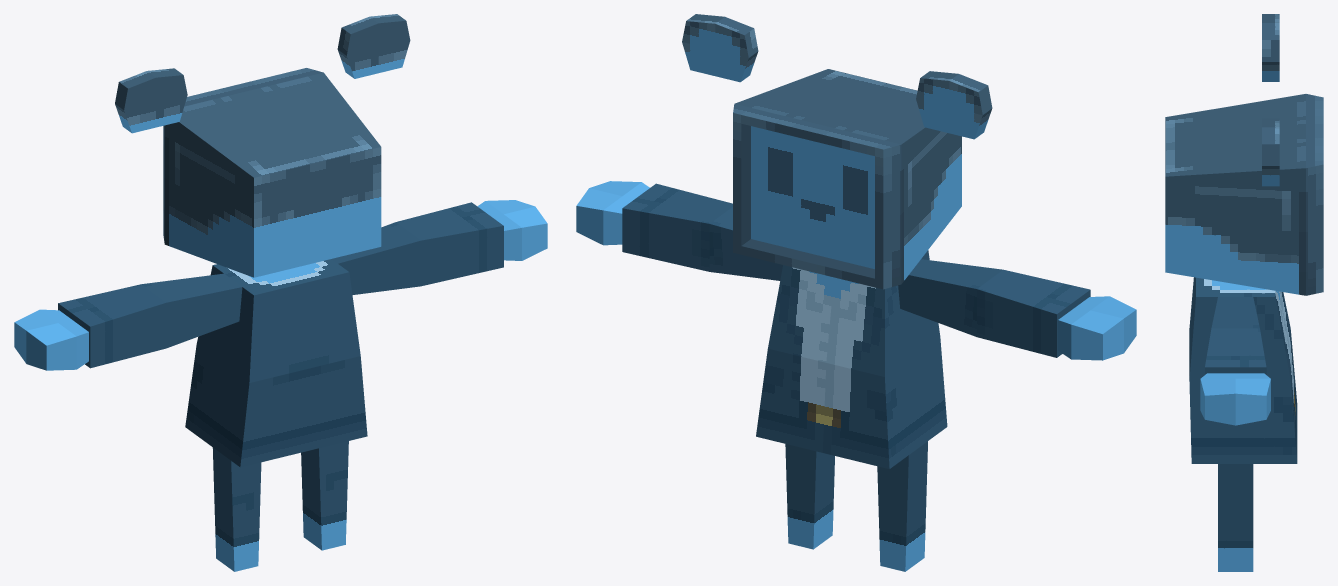
The model's file is widi2.gltf.
3 renders of one model, left to right at view 1: azimuth 30°, elevation 25°; view 2: azimuth 150°, elevation 25°; view 3: azimuth 270°, elevation 25°, orthographic. The views are drawn at different scales.
Visible parts, largest first — view 1: cuboid (×12); view 2: cuboid (×12); view 3: cuboid (×8).
Part boxes in pixels (left/top/right/bottom): cuboid (×12): left=14, top=14, right=547, bottom=571; cuboid (×12): left=576, top=14, right=1136, bottom=571; cuboid (×8): left=1165, top=14, right=1323, bottom=571.
Bounding box in the file's own units: 2 × 1.84 × 0.5625.
1 material, 1 textured.
